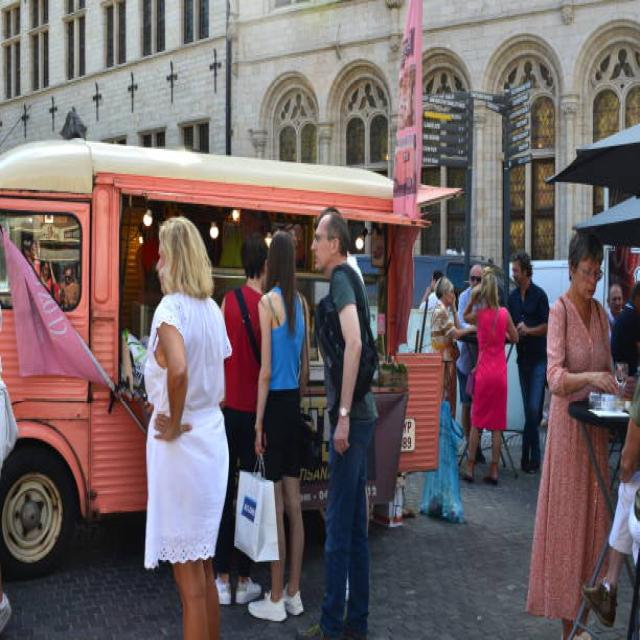Emperan: (0, 130, 466, 592)
